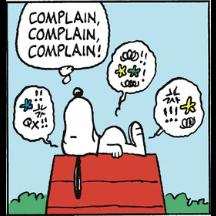snoopy: (59, 86, 147, 202)
